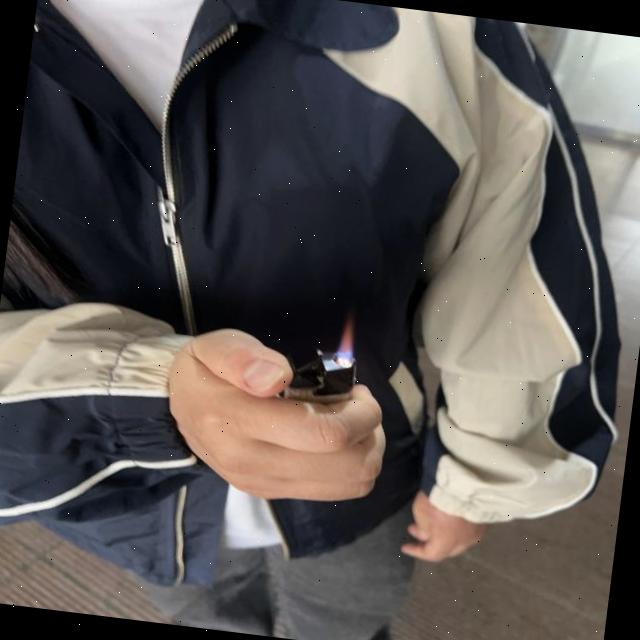fire: (337, 316, 356, 370)
